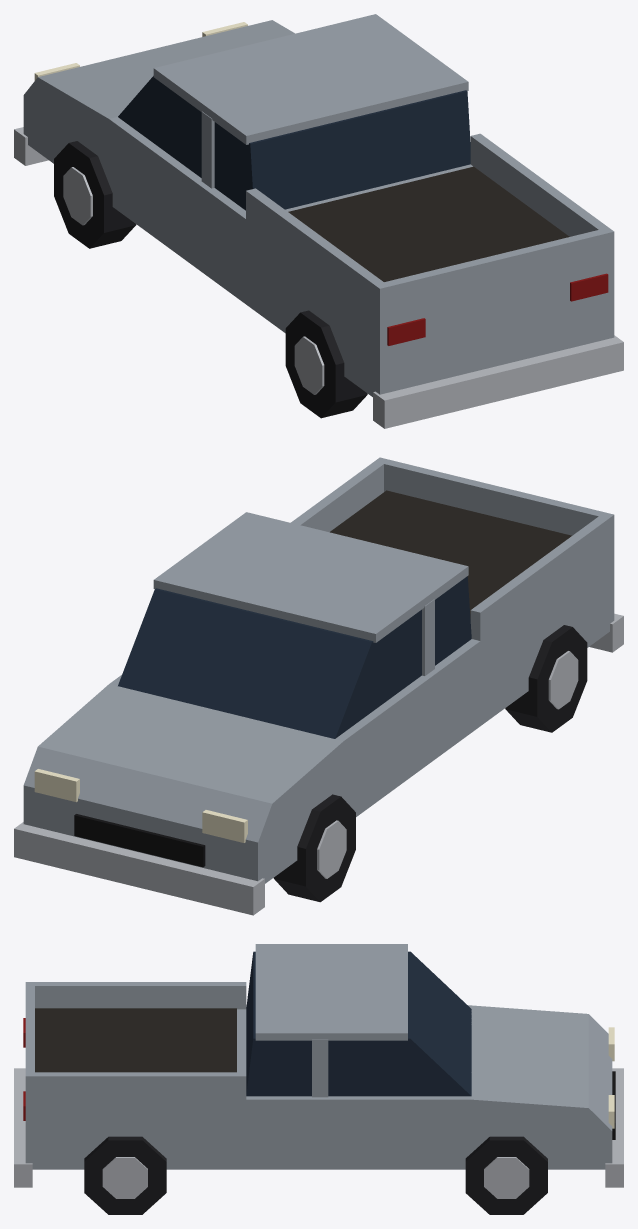
File: CarPickupSilver.obj
The picture shows the model from 3 angles, top to bottom: view 1: azimuth 30°, elevation 25°; view 2: azimuth 150°, elevation 25°; view 3: azimuth 270°, elevation 25°; orthographic projection. The views are drawn at different scales.
Parts seen in each view (by area): view 1: CarPickupSilver; view 2: CarPickupSilver; view 3: CarPickupSilver.
Part boxes in pixels (x1,y1,x2,y2): CarPickupSilver: (14, 14, 623, 428); CarPickupSilver: (14, 457, 623, 915); CarPickupSilver: (14, 944, 623, 1214).
Bounding box in the file's own units: 2.07 × 1.65 × 5.2.
1 material, 1 textured.
